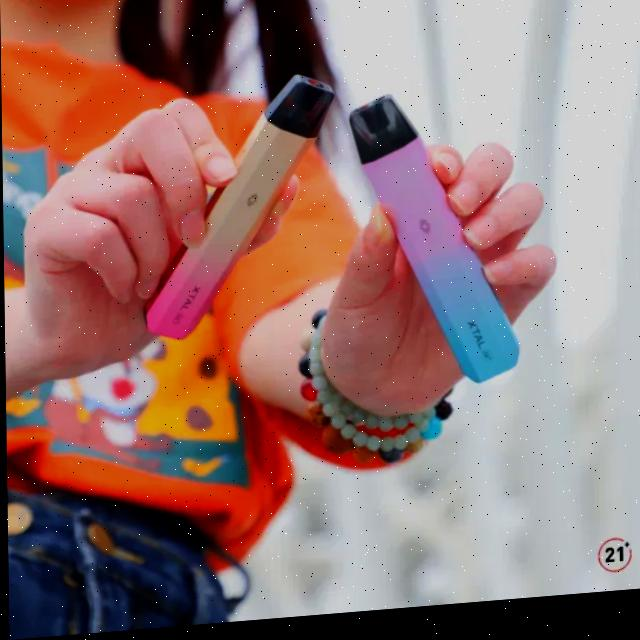vape: (140, 78, 340, 350), (348, 87, 520, 402)
